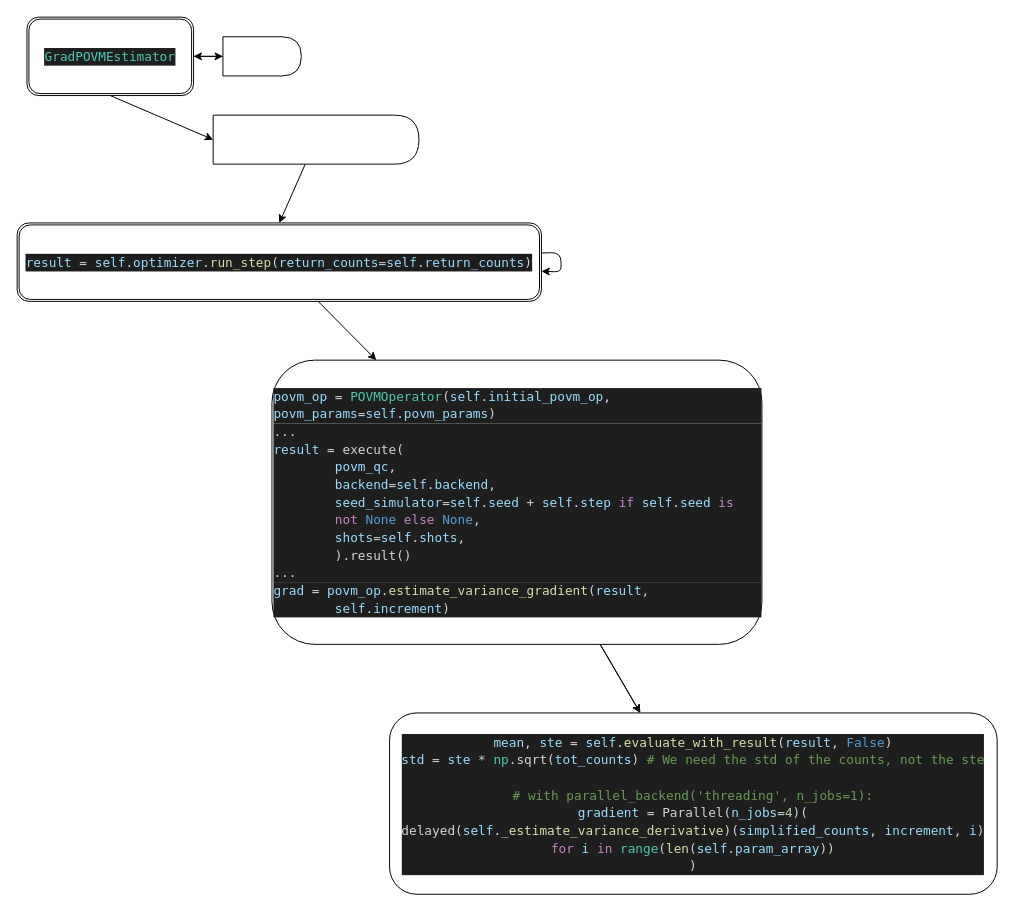
Image size: 1014x911. Some labels were removed from this diagram. Here are the shapes that lost their labels. From the top down, the centre of each, then its label:
At point (261, 56): "__init__()".
At point (315, 139): "estimate ( self , total_shots )".
